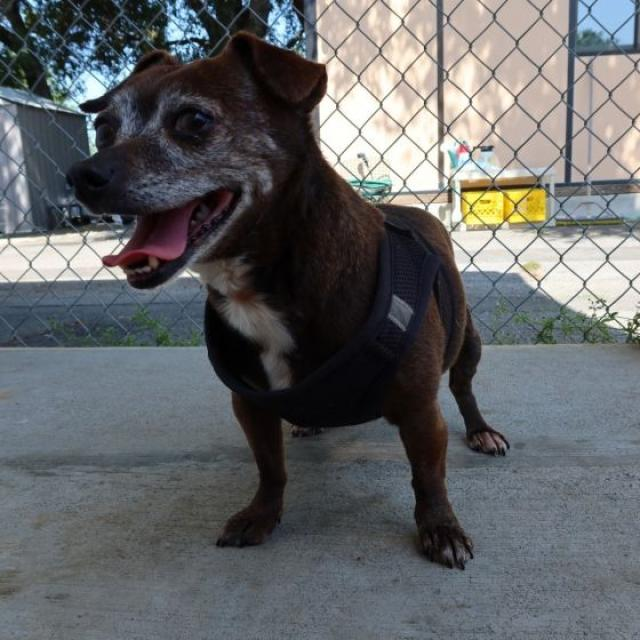chihuahua_dog: (55, 14, 356, 300)
